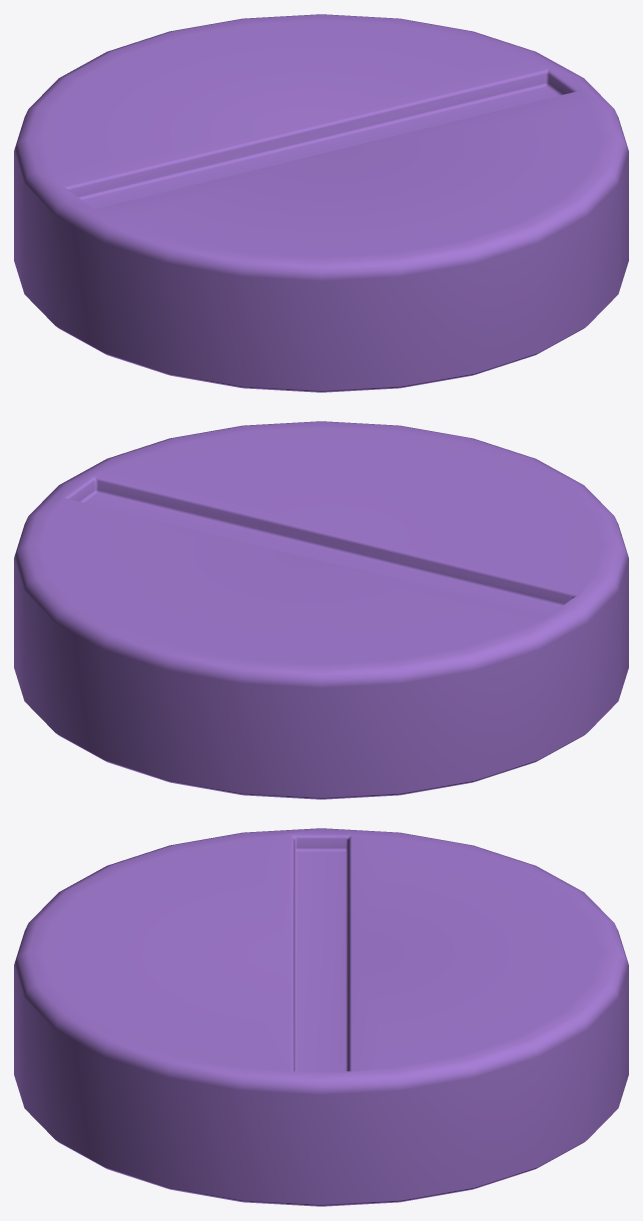
The model's file is Public_3_Pill_7.glb.
The picture shows the model from 3 angles, top to bottom: view 1: azimuth 30°, elevation 25°; view 2: azimuth 150°, elevation 25°; view 3: azimuth 270°, elevation 25°; orthographic projection.
Visible parts, largest first — view 1: Public_3_Pill_7; view 2: Public_3_Pill_7; view 3: Public_3_Pill_7.
Boxes of the visible parts, <box> form: Public_3_Pill_7: <box>14,14,628,392</box>; Public_3_Pill_7: <box>14,421,628,799</box>; Public_3_Pill_7: <box>14,828,628,1206</box>.
Bounding box in the file's own units: 1.52 × 0.3422 × 1.52.
1 material, 1 textured.
